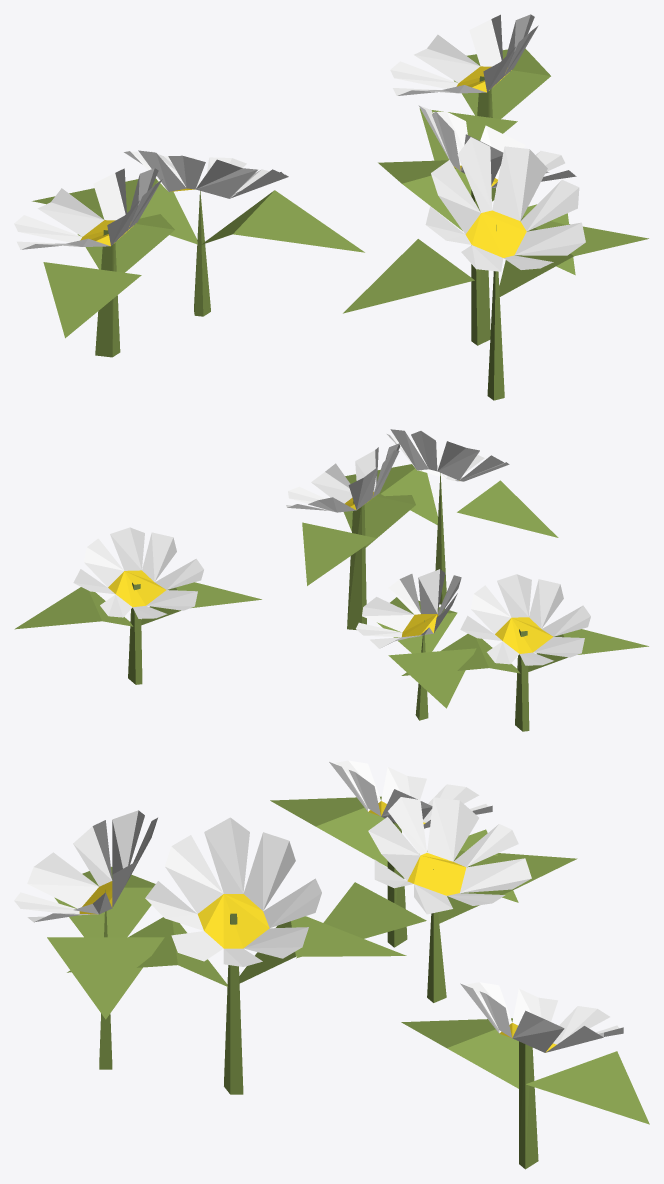
3 views of the same model, one above another, from view 1: azimuth 30°, elevation 25°; view 2: azimuth 150°, elevation 25°; view 3: azimuth 270°, elevation 25° (orthographic). The views are drawn at different scales.
Bounding box in the file's own units: 117 × 42 × 97.
Materials: 1 (1 with a texture image).
